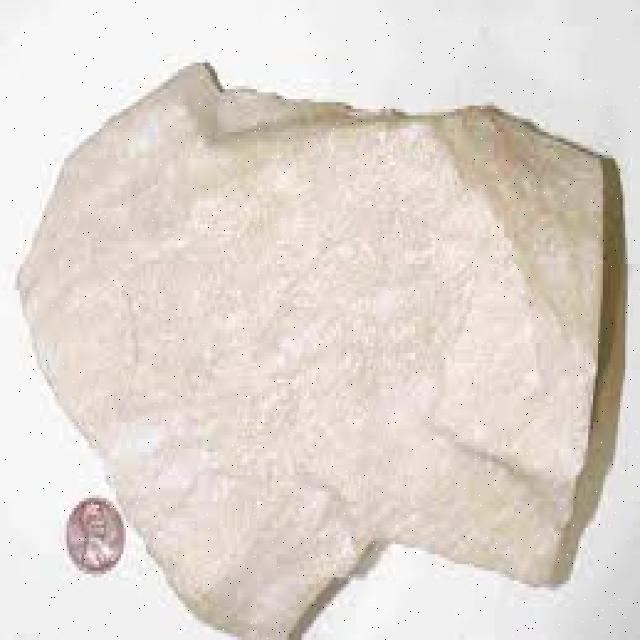Metamorphic: (10, 53, 615, 636)
